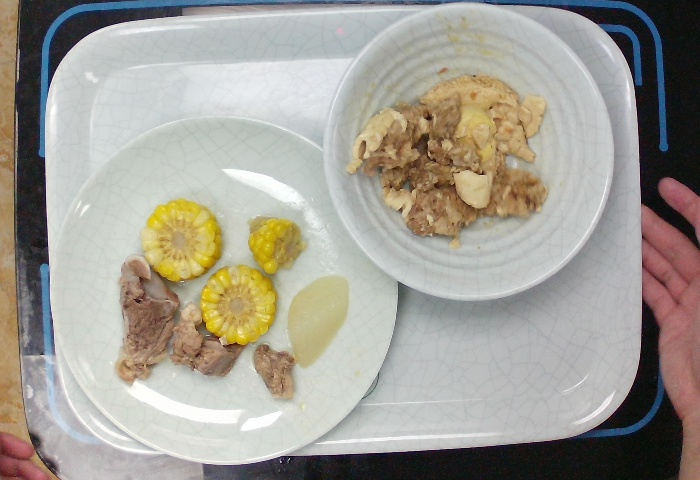JYsf-Da_Yuan_Pan: (48, 110, 400, 466)
JYsf-Xiao_Tang_Wan: (321, 1, 613, 308)
